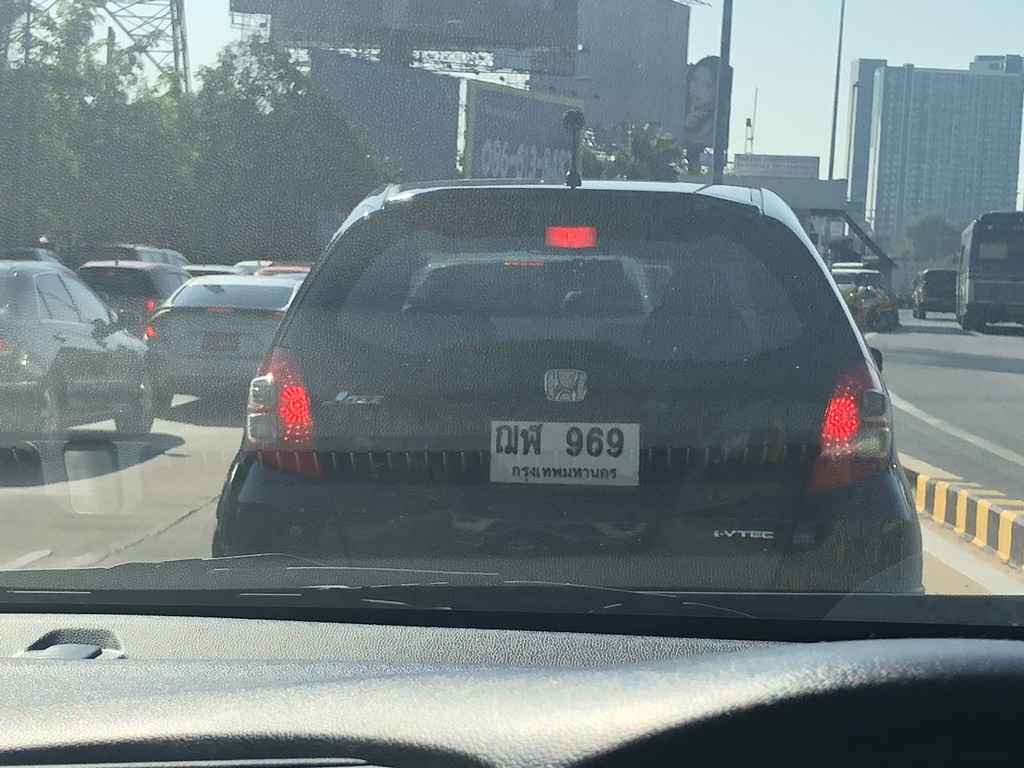plate: (482, 410, 649, 497)
